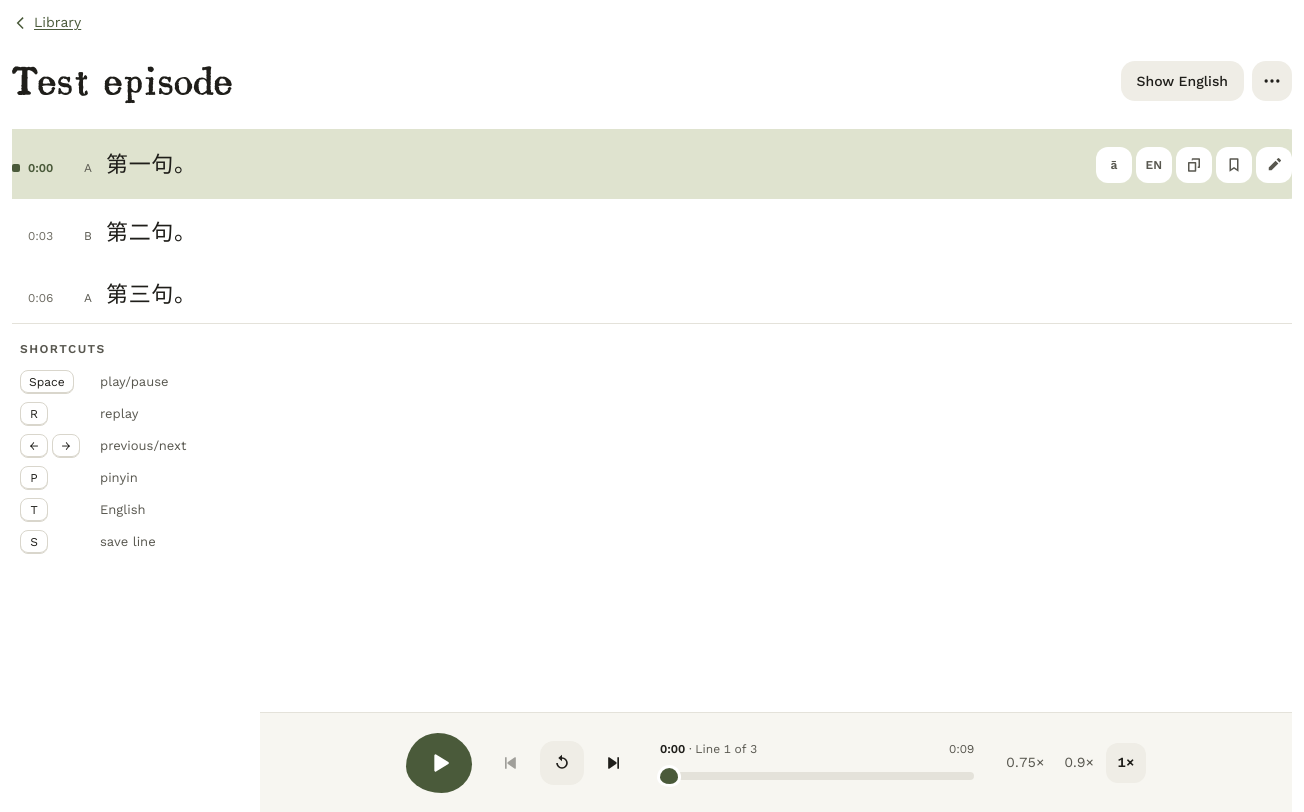
Copy transcript › sits in the transcript menu after Show pinyin, with help that says what it copies
The width and height of the screenshot is (1304, 812).
Check: the button "Show English" is shown, box [1120, 61, 1244, 101]
Check: the menu item "Copy transcript" is not shown
Click the button named "Transcript actions": (1272, 81) [1252, 61, 1292, 101]
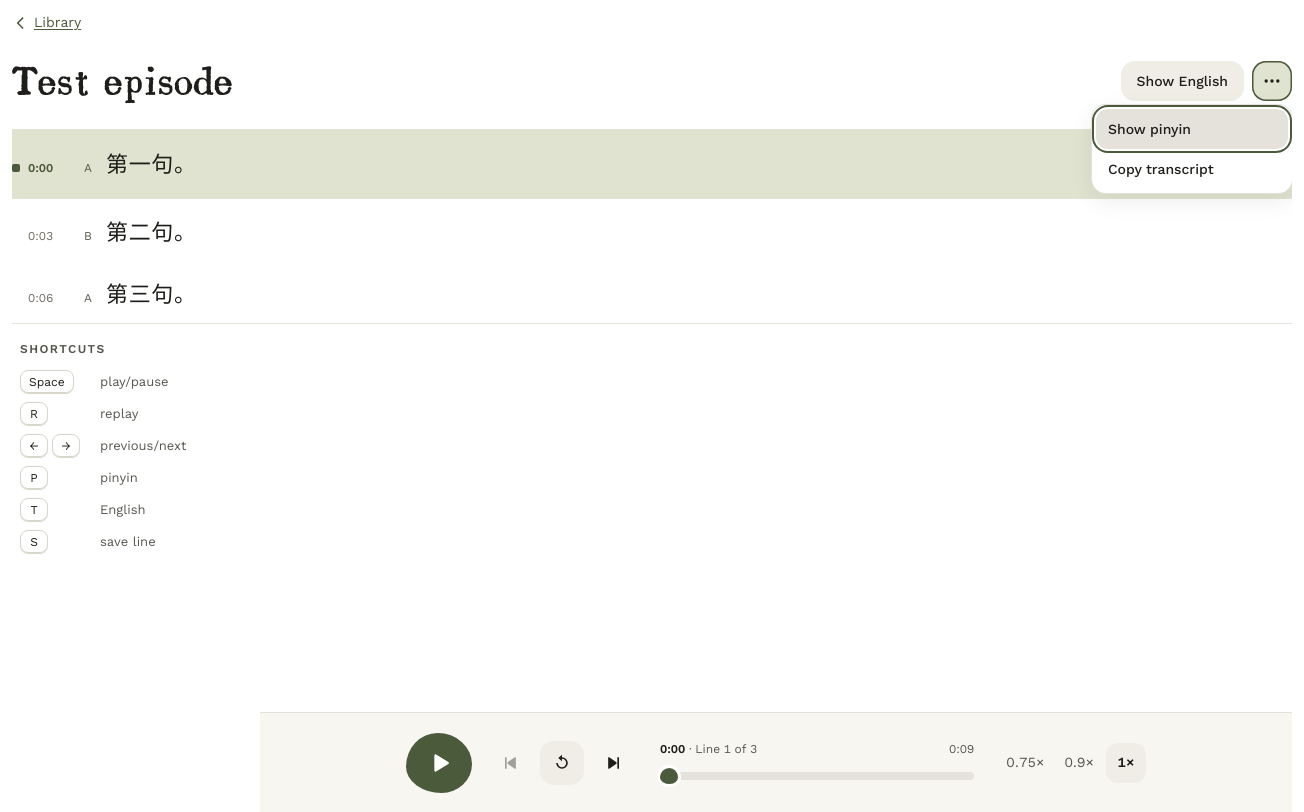
Check: the menu items read "Show pinyin", "Copy transcript", in this order, box [1096, 109, 1288, 149]; [1096, 149, 1288, 189]
